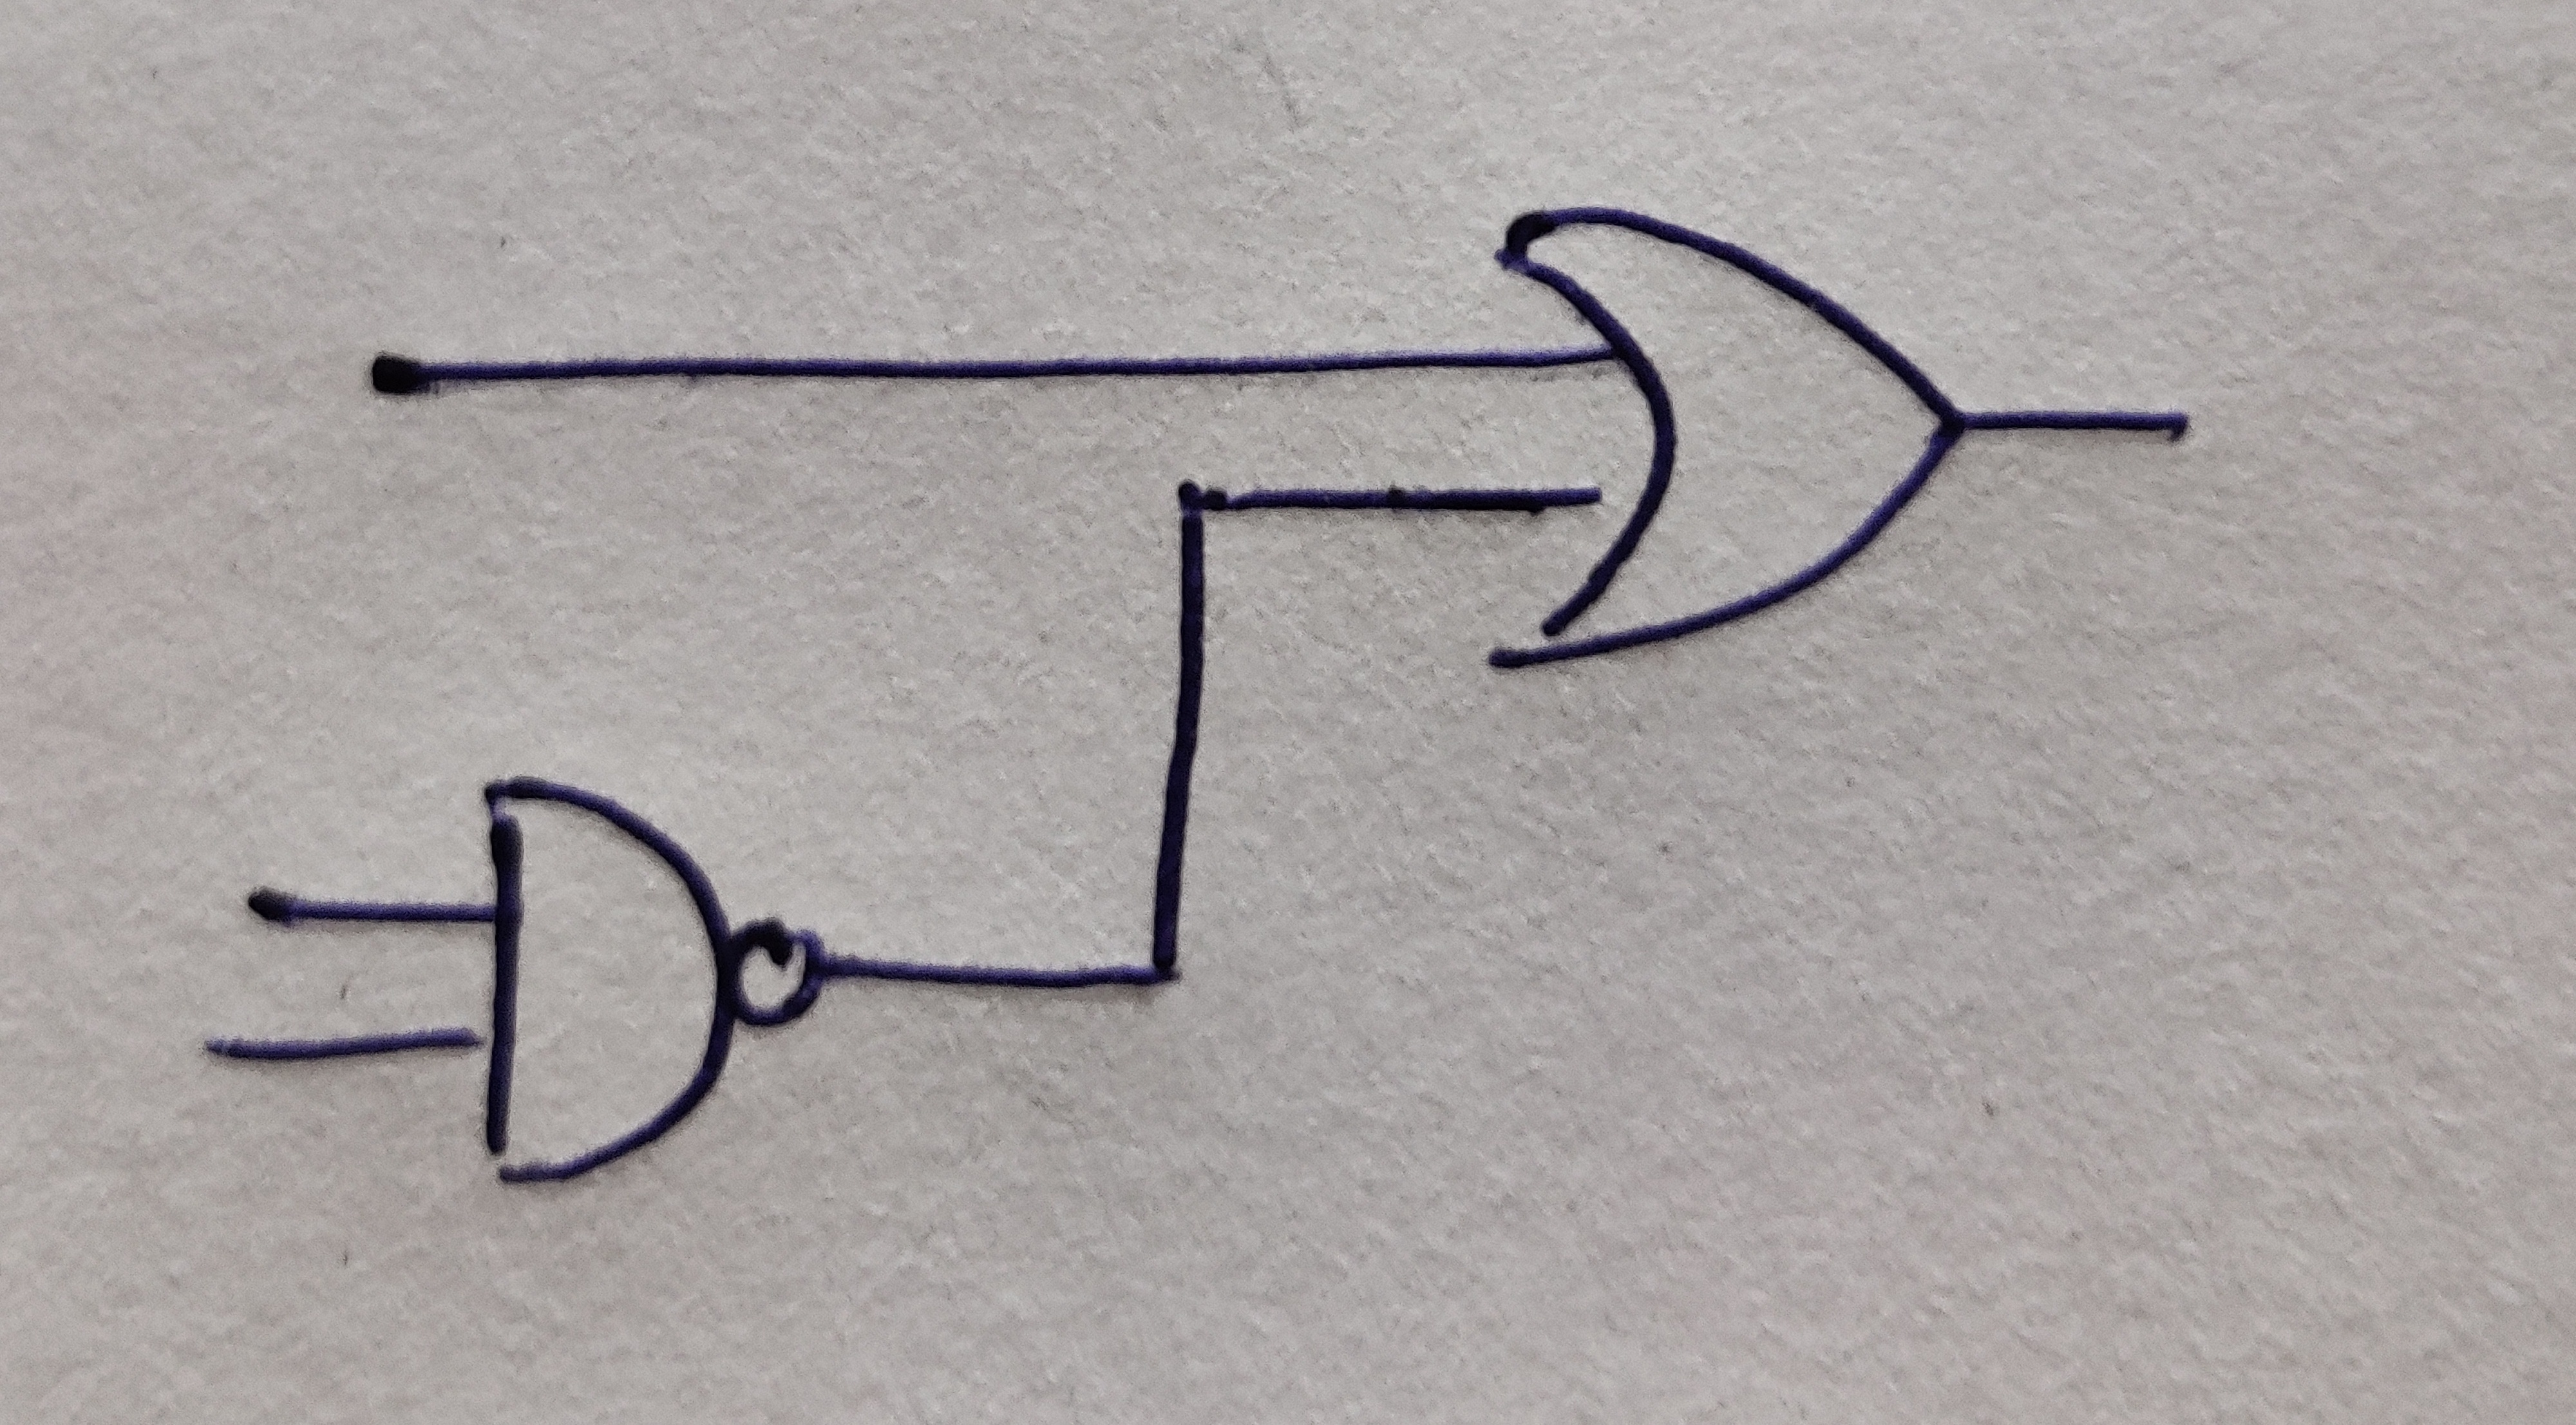and: (482, 776, 737, 1185)
not: (731, 920, 828, 1028)
or: (1489, 209, 1966, 669)
